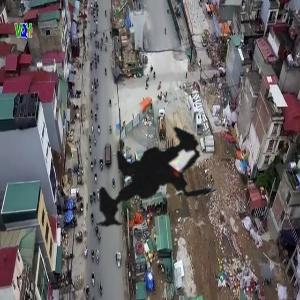drone: (57, 90, 254, 287)
